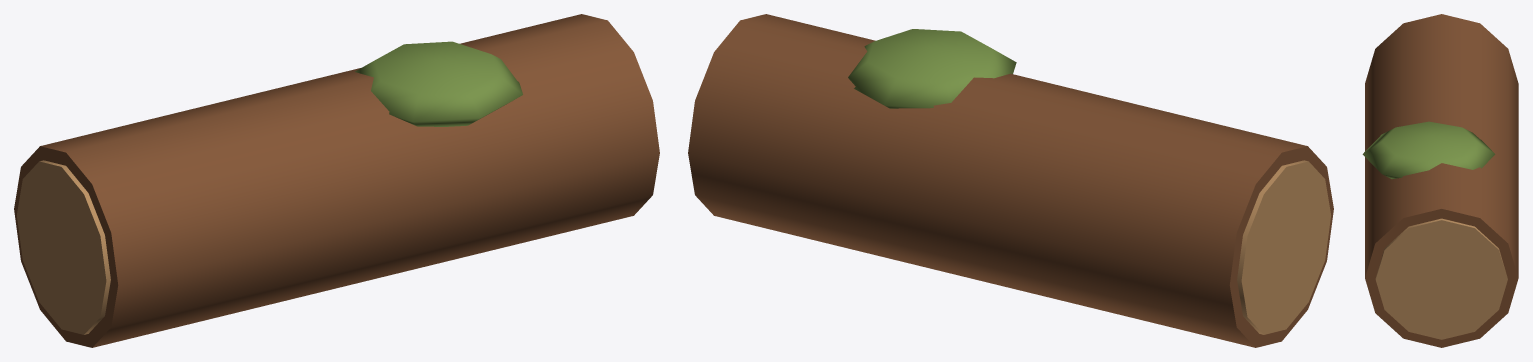
The model's file is log.glb.
The picture shows the model from 3 angles, left to right: view 1: azimuth 30°, elevation 25°; view 2: azimuth 150°, elevation 25°; view 3: azimuth 270°, elevation 25°; orthographic projection. The views are drawn at different scales.
Visible parts, largest first — view 1: body; view 2: body; view 3: body.
Part boxes in pixels (<box>): body: <box>14,14,659,347</box>; body: <box>688,14,1333,347</box>; body: <box>1362,14,1518,347</box>.
Size of the model in its own units: 1.83 by 0.633 by 0.61.
